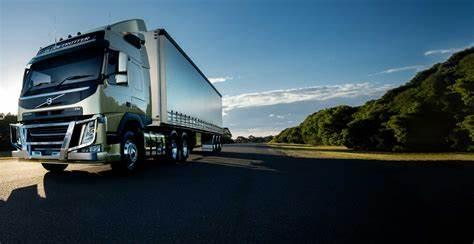truck: (18, 17, 235, 176)
